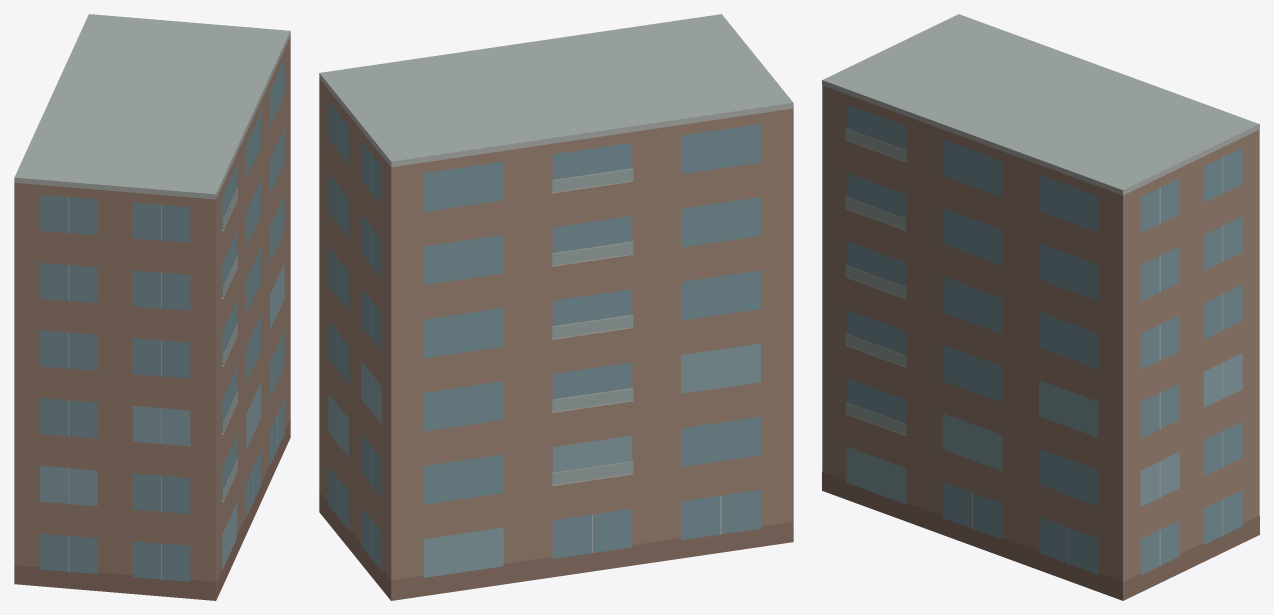
Rendered from survey-upis-32526029.glb.
3 renders of one model, left to right at view 1: azimuth 30°, elevation 25°; view 2: azimuth 150°, elevation 25°; view 3: azimuth 270°, elevation 25°, orthographic. The views are drawn at different scales.
Parts seen in each view (by area): view 1: survey-upis-32526029.tmp; view 2: survey-upis-32526029.tmp; view 3: survey-upis-32526029.tmp.
Boxes of the visible parts, x1,y1,x2,y2 form: survey-upis-32526029.tmp: (14, 14, 290, 600); survey-upis-32526029.tmp: (319, 14, 793, 600); survey-upis-32526029.tmp: (822, 14, 1259, 600).
Size of the model in its own units: 17.59 by 19.1 by 18.45.
